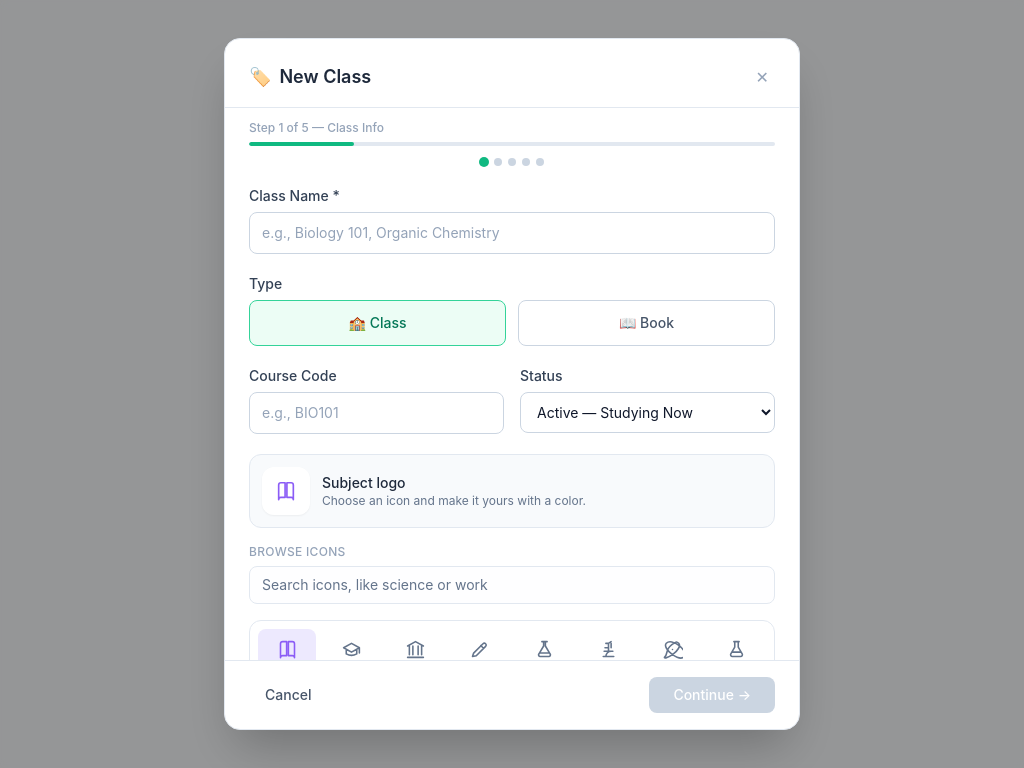
ClassCreationWizard — Linked Folder Integration › clicking "Change" allows selecting a different folder
Type "Biology 101" into the field with placeholder "e.g., Biology 101, Organic Chemistry".
click(512, 233); type("Biology 101")  # box [249,212,775,254]
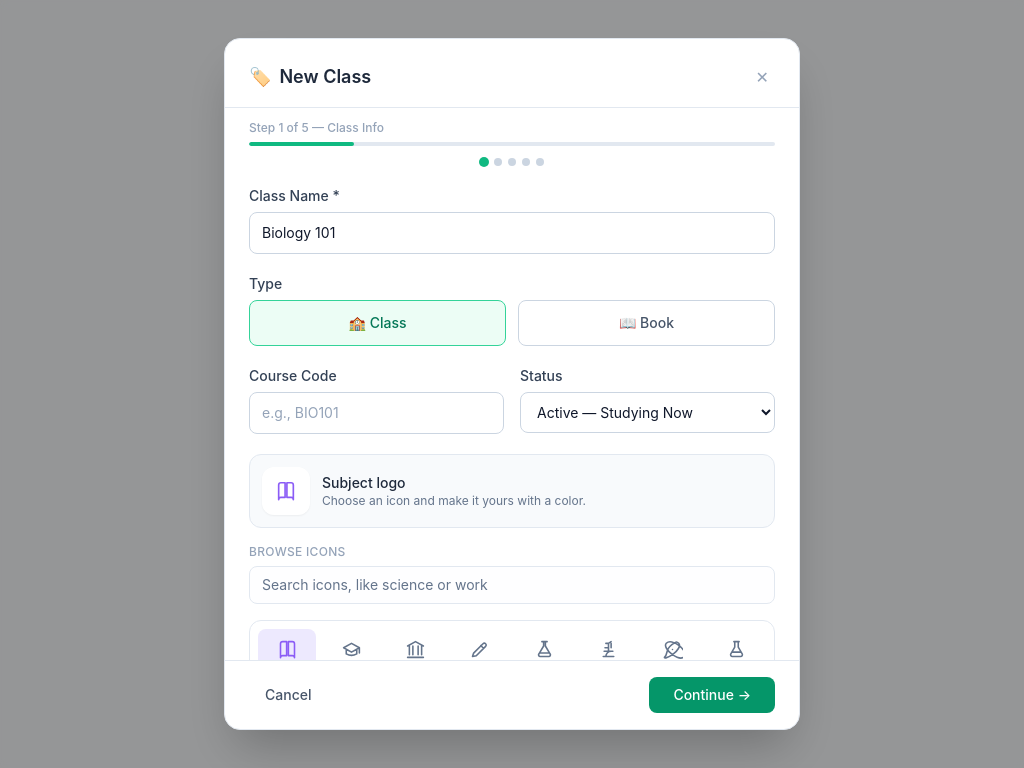
Click the button "Continue →".
click(712, 695)  # box [649,677,775,713]
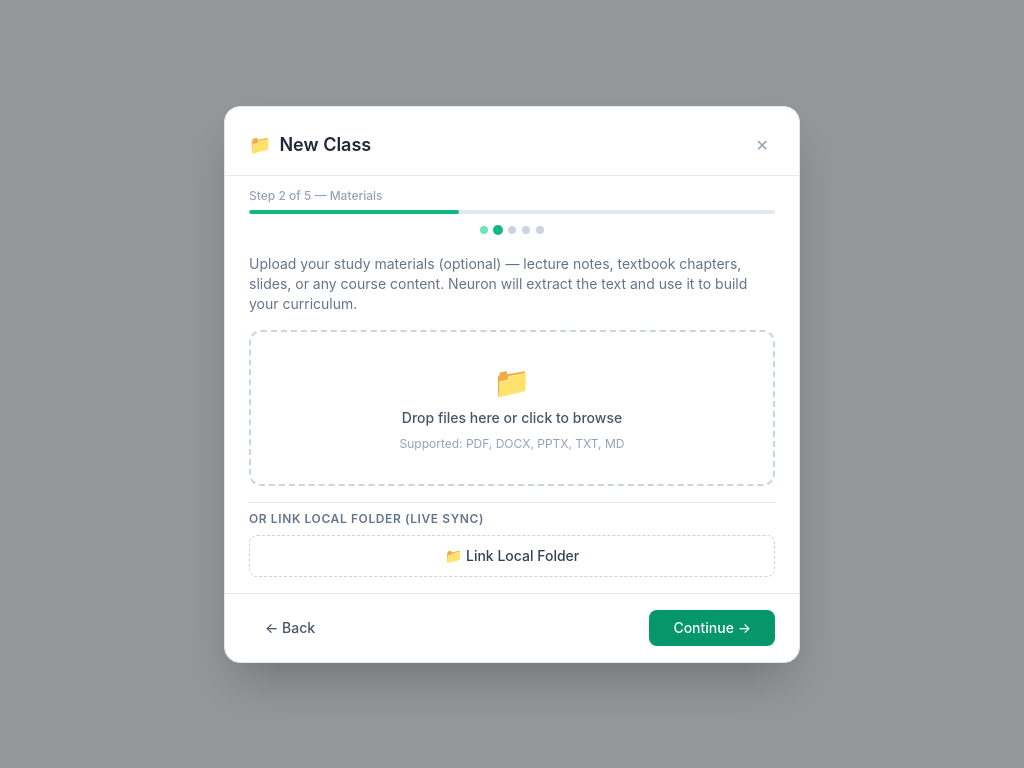
Expected: the text "Upload your study materials" is shown, [249,254,747,312]
Click the button "📁 Link Local Folder".
click(512, 556)  # box [249,534,775,576]
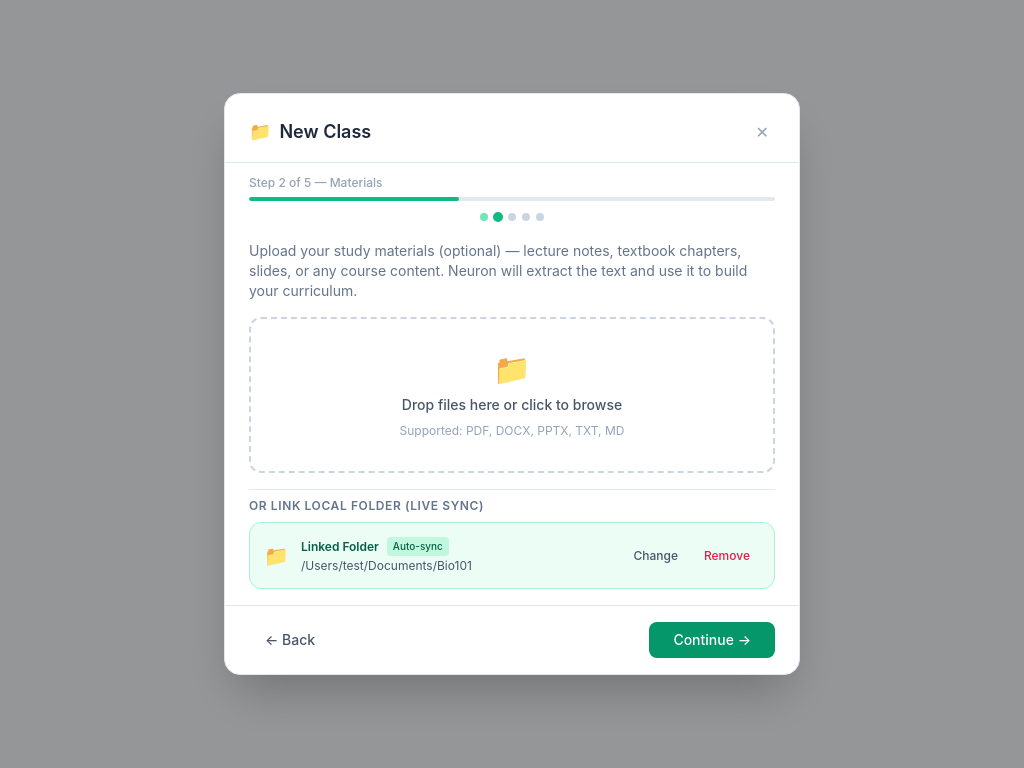
Expected: the text "/Users/test/Documents/Bio101" is shown, [301,558,472,574]
Click the button "Change".
click(656, 556)  # box [623,544,688,568]
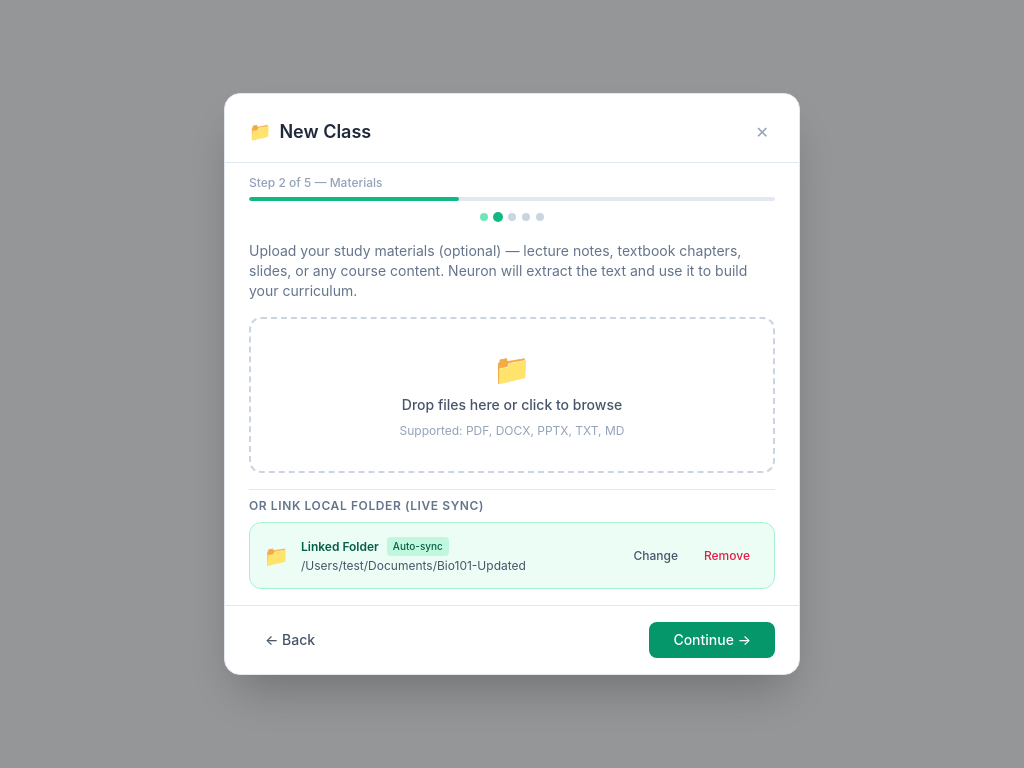
Expected: the text "/Users/test/Documents/Bio101-Updated" is shown, [301,558,526,574]
